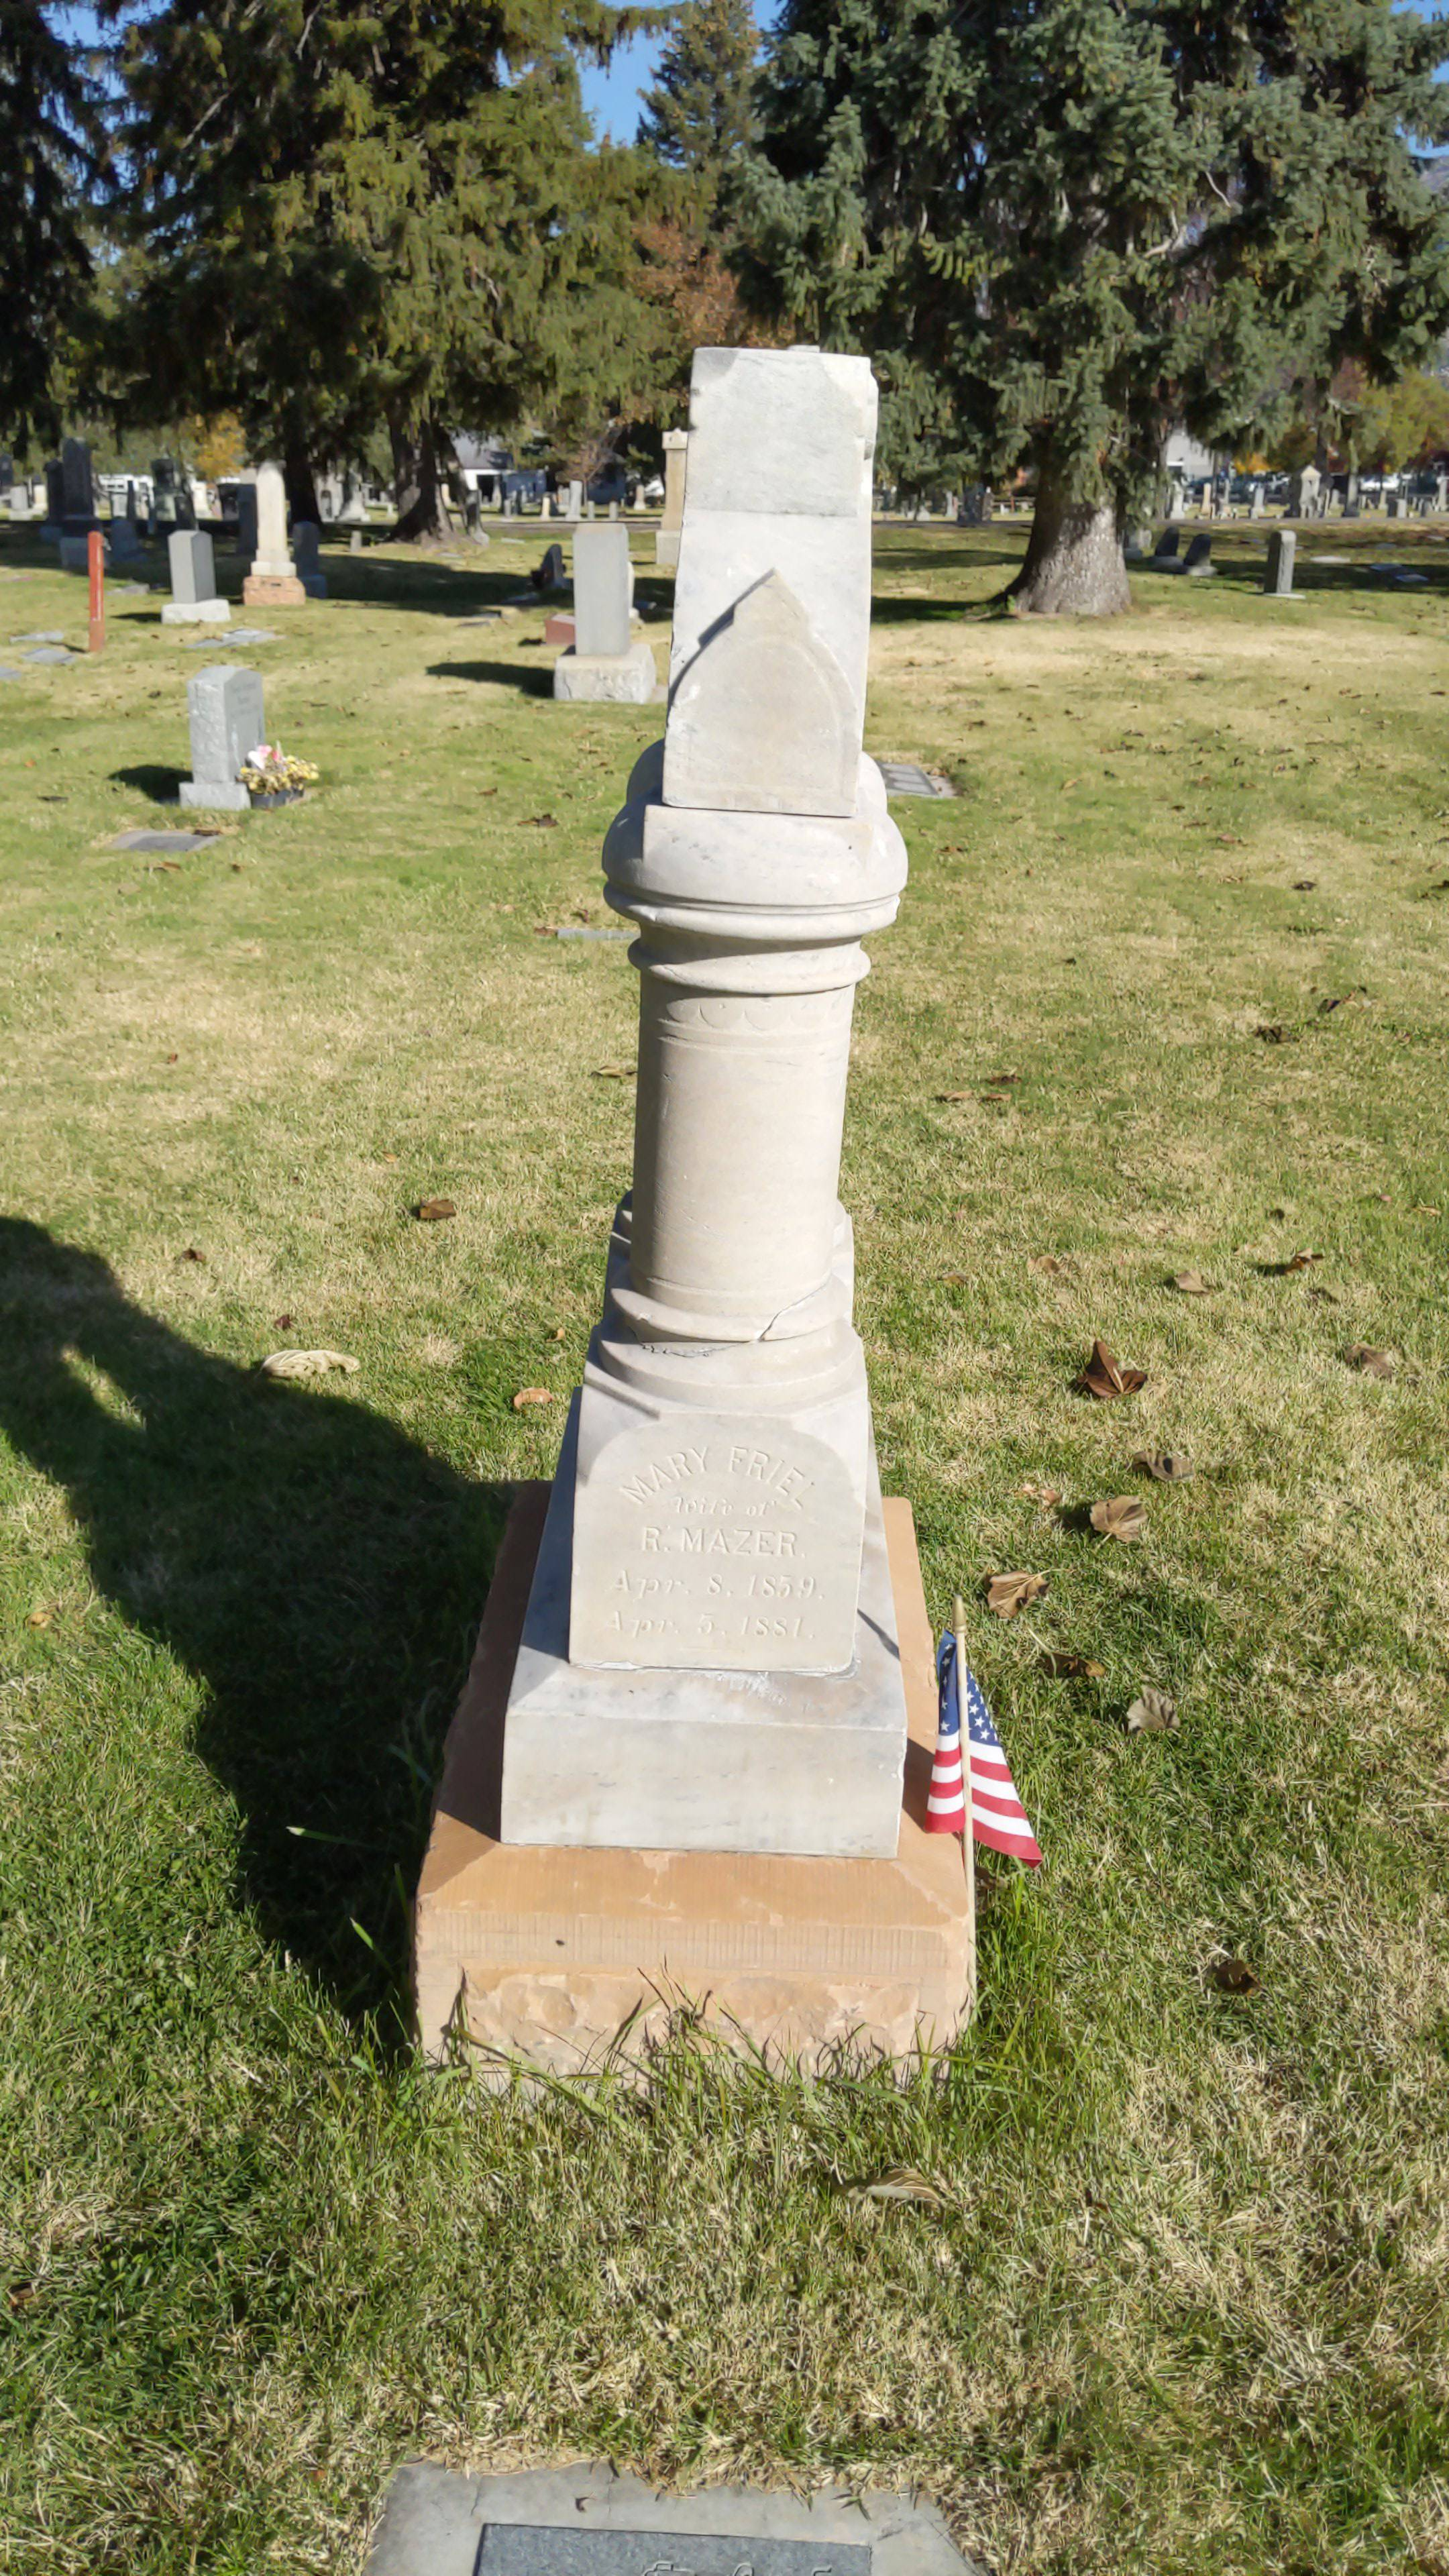obelisk: (499, 356, 908, 1847)
